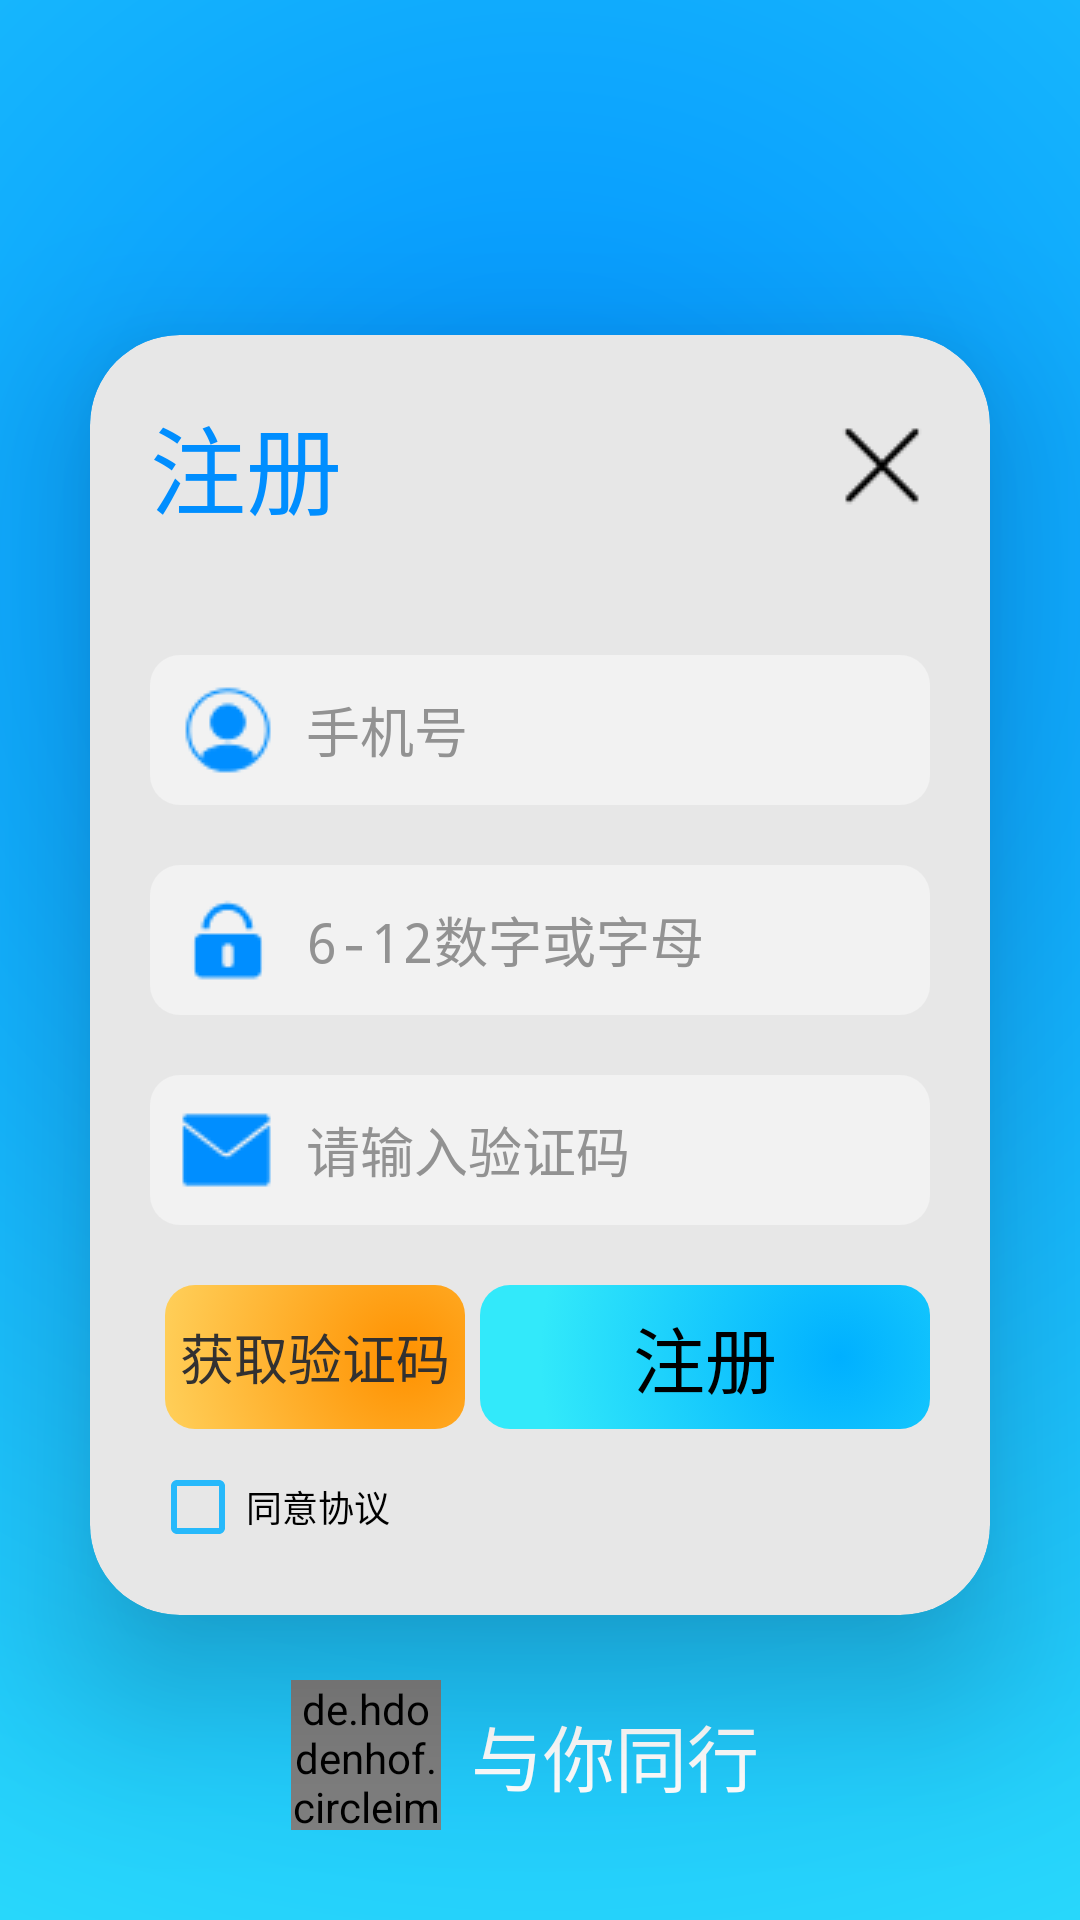

Named icons in this screenshot (1080w x 1920h) and their centers, point (x, y):
close: point (882, 465)
